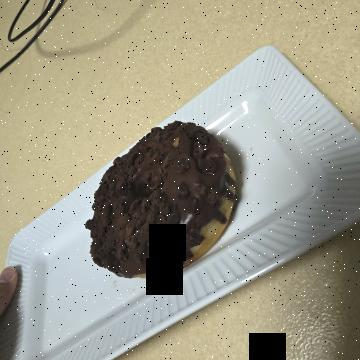doughnut: (103, 122, 292, 294)
